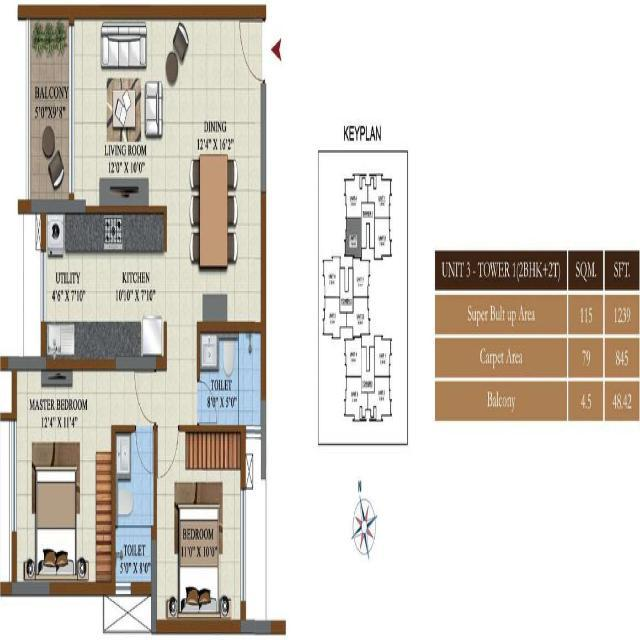Balcony-Sitout: (29, 18, 71, 199)
Bedroom: (155, 430, 242, 619)
Bedroom with Toilet: (12, 363, 156, 593)
Dining: (189, 155, 238, 270)
Enterance-Foyer: (228, 10, 286, 83)
Kitchen: (45, 212, 167, 359)
Living: (73, 17, 167, 208)
Toilet: (197, 321, 267, 429), (115, 432, 152, 586)
